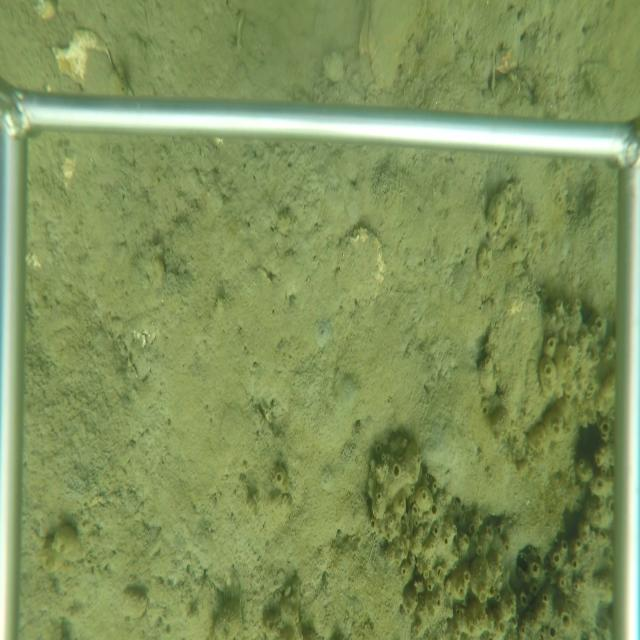Oyster-Closed: (357, 3, 430, 93)
Oyster-Indeterminate: (486, 259, 549, 434), (336, 224, 385, 310)
